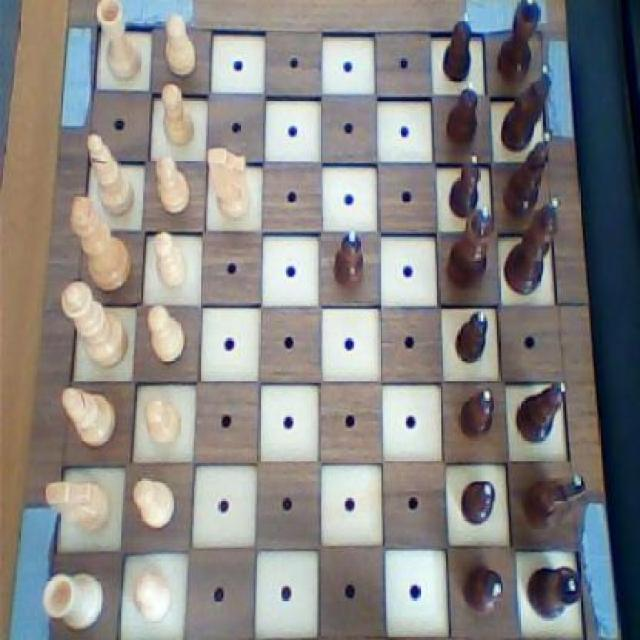bishop: (499, 126, 556, 222), (512, 377, 570, 448)
black-bishop: (500, 192, 565, 301)
black-king: (496, 64, 554, 158), (525, 465, 589, 536)
black-knight: (445, 77, 482, 155), (460, 558, 508, 618), (443, 148, 482, 220), (438, 9, 474, 86), (329, 225, 368, 296), (454, 385, 501, 439), (449, 308, 490, 368), (457, 474, 500, 531)
black-pawn: (443, 203, 499, 292)
black-queen: (494, 0, 544, 88), (523, 563, 584, 622)
black-rook: (83, 128, 139, 223), (57, 382, 119, 456)
white-bishop: (69, 194, 134, 299)
white-king: (41, 475, 114, 544), (204, 142, 256, 226)
white-knight: (142, 302, 190, 370), (131, 472, 177, 536), (160, 9, 200, 81), (151, 151, 192, 219), (149, 226, 190, 293), (160, 78, 197, 150), (129, 566, 173, 625), (142, 394, 183, 448)
white-pawn: (60, 276, 129, 372)
white-queen: (88, 0, 148, 83), (36, 565, 106, 633)
